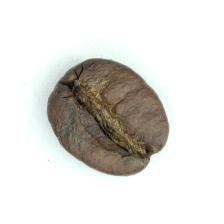NG: (71, 78, 146, 161)
